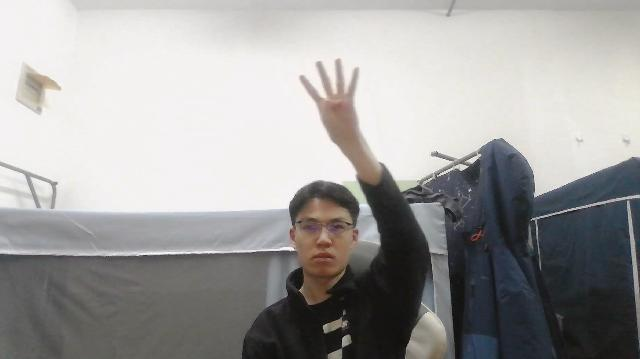four: (298, 58, 364, 150)
